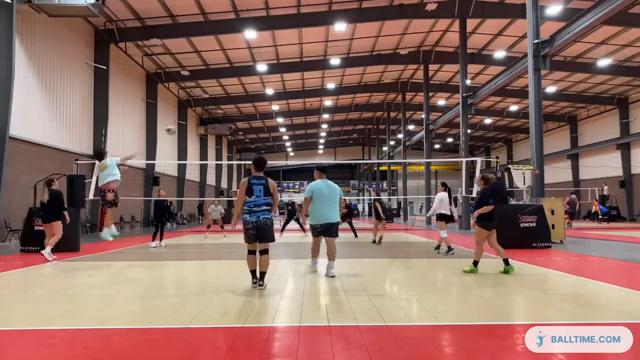attacco: (88, 142, 139, 244)
